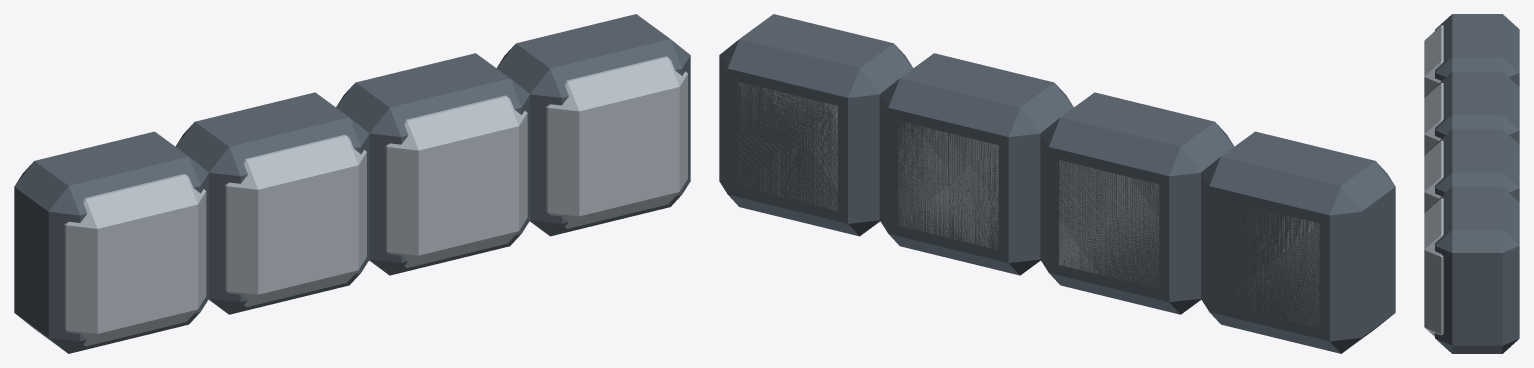
The model's file is Terrain_Block4x1.gltf.
The picture shows the model from 3 angles, left to right: view 1: azimuth 30°, elevation 25°; view 2: azimuth 150°, elevation 25°; view 3: azimuth 270°, elevation 25°; orthographic projection. The views are drawn at different scales.
Parts seen in each view (by area): view 1: Terrain_Block4x1_baked; view 2: Terrain_Block4x1_baked; view 3: Terrain_Block4x1_baked.
Boxes of the visible parts, box(x1,y1,x2,y2) form: Terrain_Block4x1_baked: box(14, 14, 690, 353); Terrain_Block4x1_baked: box(719, 14, 1395, 353); Terrain_Block4x1_baked: box(1424, 14, 1519, 353).
Bounding box in the file's own units: 4 × 1 × 0.7.
